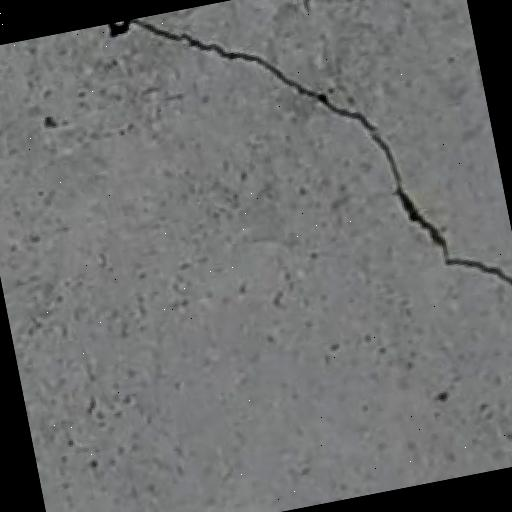spalling: (119, 18, 512, 307)
